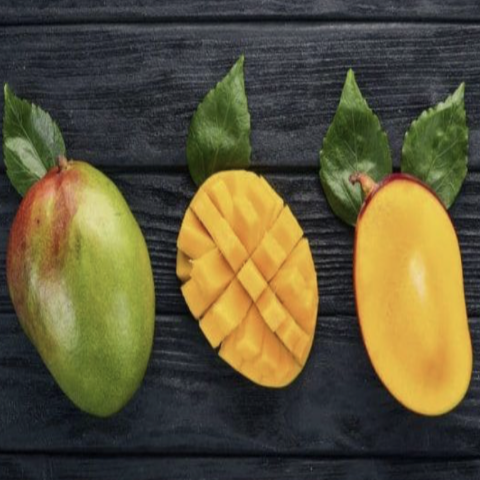mango: (1, 146, 163, 429), (168, 168, 322, 426), (339, 159, 480, 422)
